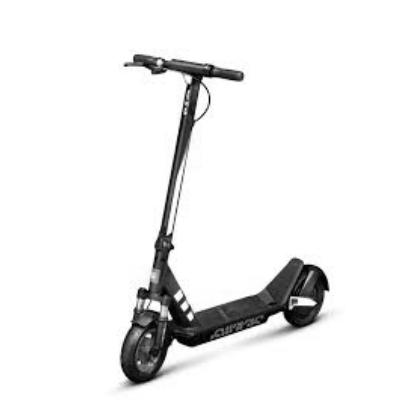bike: (118, 56, 331, 386)
